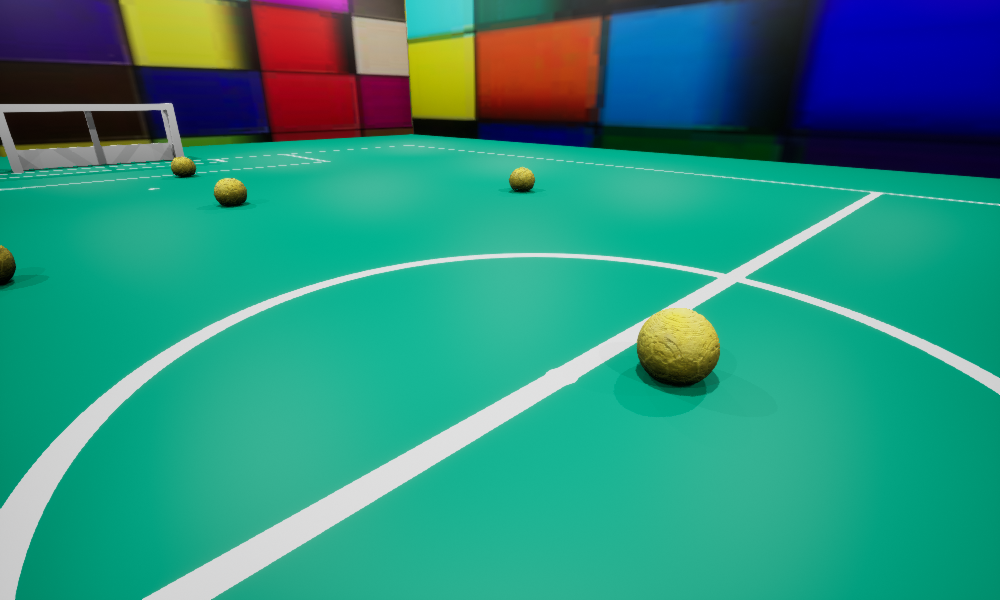b: (637, 308, 719, 385), (214, 178, 246, 205), (0, 245, 15, 285), (509, 167, 534, 191), (171, 156, 195, 176)
g: (0, 103, 184, 172)
